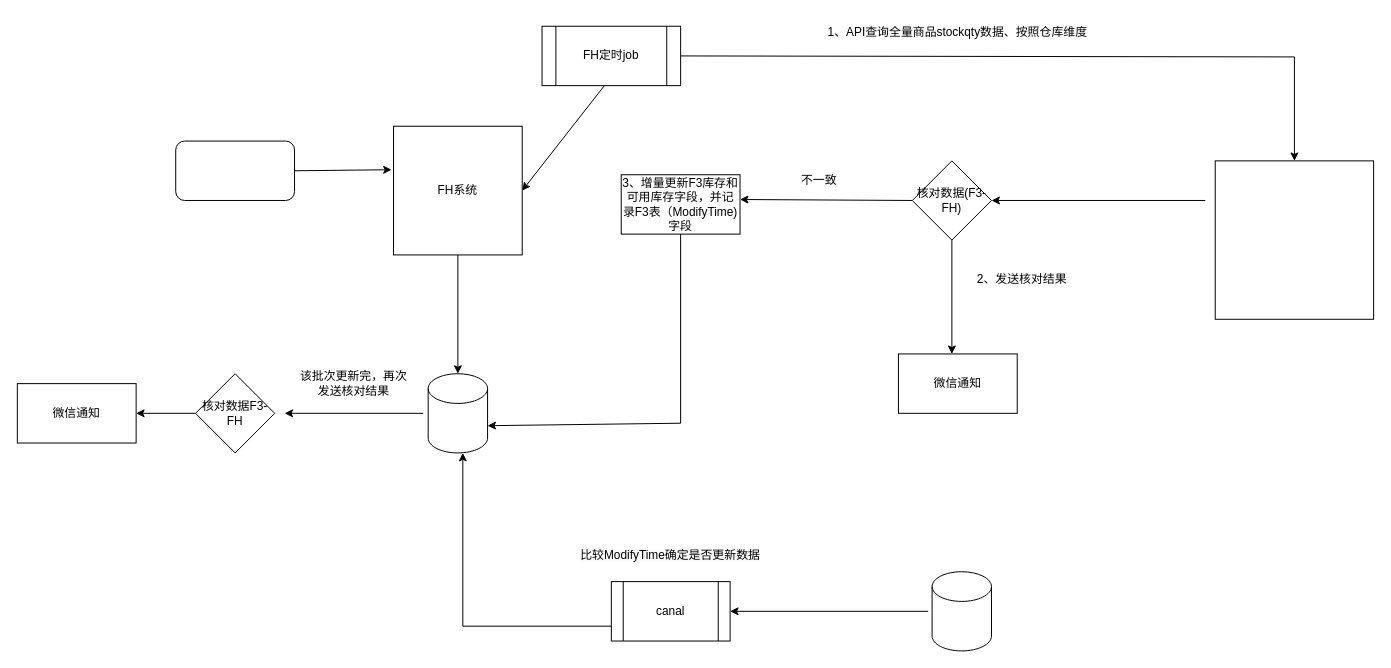
Image size: 1391x668. Some labels were removed from this diagram. The shapes that lost their labels are listed below. From the top down, each one's centre as x and y in pixels, then its label:
At pixel 235 170: "客户端".
At pixel 1294 239: "F3系统".
At pixel 457 413: "FH数据库".
At pixel 961 611: "ZT数据库".
